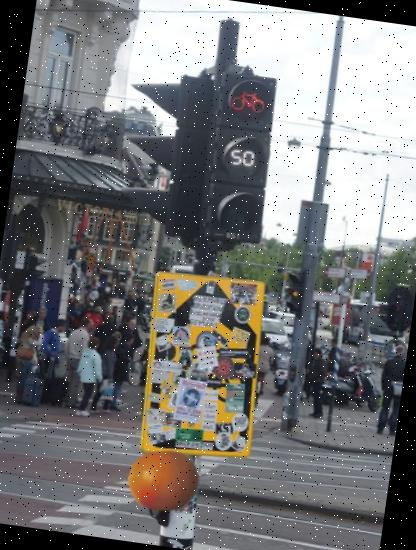Grapefruit: (124, 440, 204, 522)
